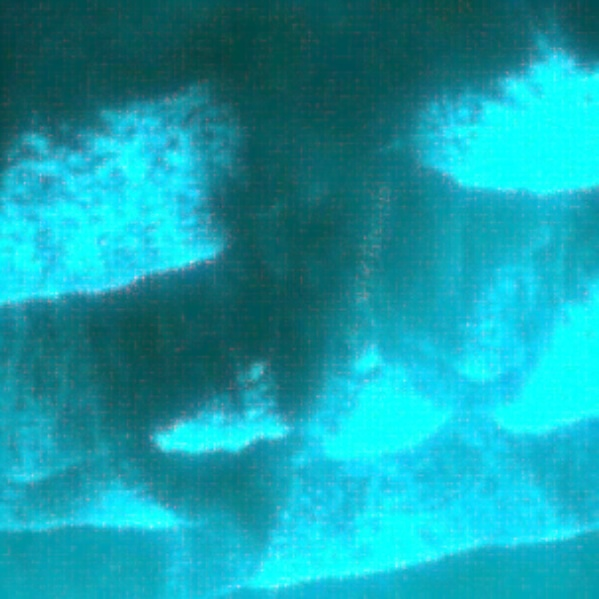rip_current: (150, 88, 404, 528)
